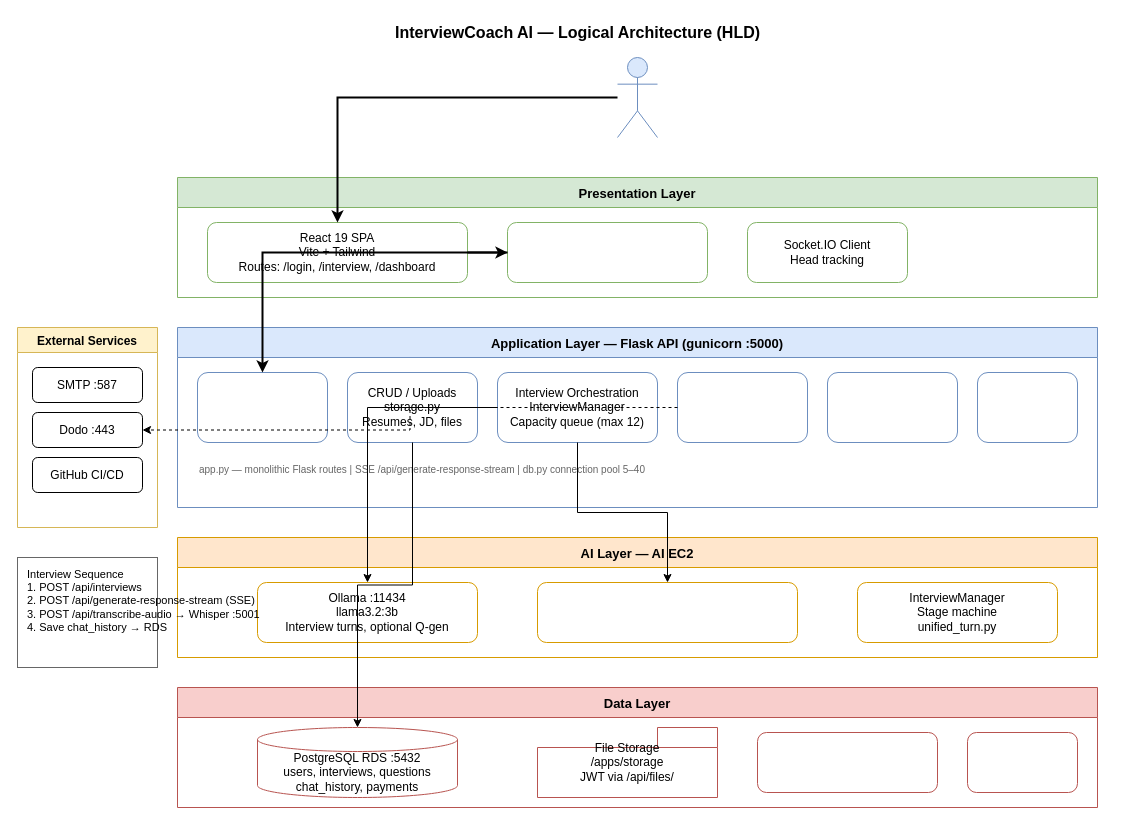
Image size: 1122x825. Some labels were removed from this diagram. Each missing label, with the centre of its shape:
Admin Logs /api/admin/logs Allowlist access: [892,407]
Auth Module JWT + bcrypt auth.py: [262,407]
AWS Secrets Manager runtime_config.py: [1022,762]
interview_sessions JSONB state session_store.py: [847,762]
nginx :443 TLS Static + /api proxy: [607,252]
Payments dodo_client.py Checkout + webhooks: [742,407]
Support Bot Support_manager_enhanced: [1027,407]
Users (Browser): [637,97]
Whisper Sidecar :5001 faster-whisper pm2 /api/internal/transcribe-audio: [667,612]
